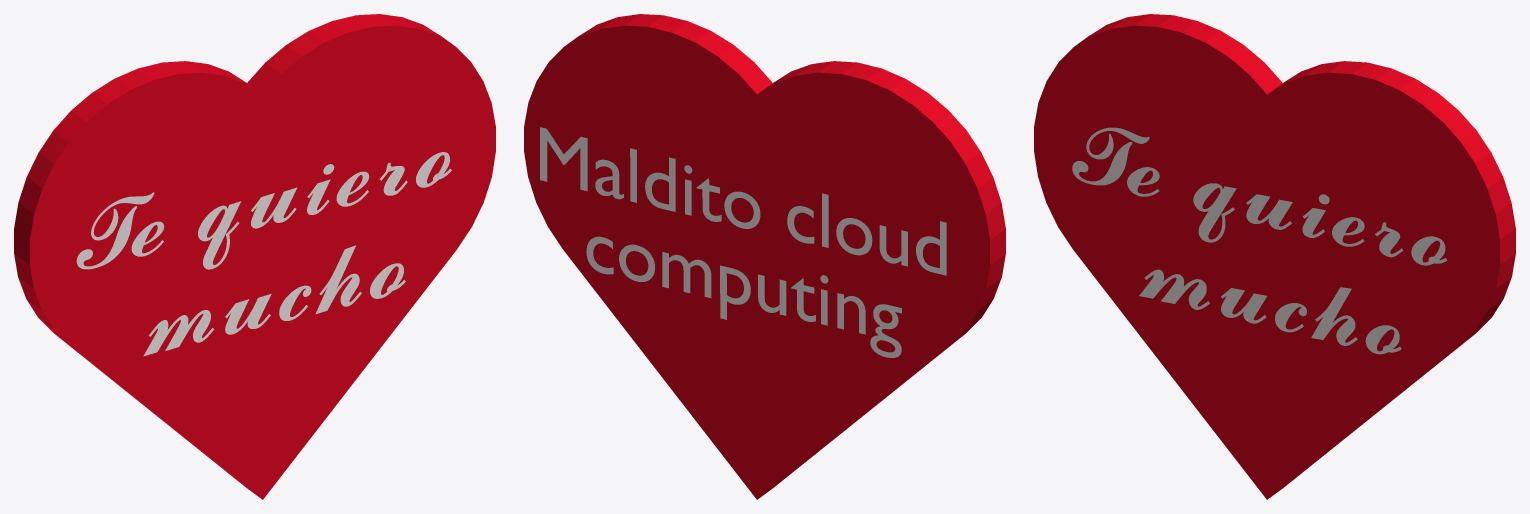
3 renders of one model, left to right at view 1: azimuth 30°, elevation 25°; view 2: azimuth 150°, elevation 25°; view 3: azimuth 330°, elevation 25°, orthographic.
Parts seen in each view (by area): view 1: Cube, Text; view 2: Cube, Text.001; view 3: Cube, Text.
Boxes of the visible parts, bbox=[...] form: Cube: bbox=[14, 14, 495, 499]; Text: bbox=[76, 152, 451, 356]; Cube: bbox=[524, 14, 1005, 499]; Text.001: bbox=[540, 127, 946, 357]; Cube: bbox=[1034, 14, 1515, 499]; Text: bbox=[1072, 127, 1447, 354].
Size of the model in its own units: 3.4 by 3.12 by 0.3398.
